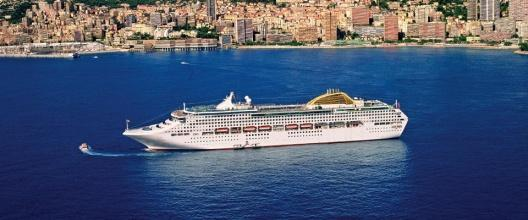youlun: (120, 82, 413, 152)
